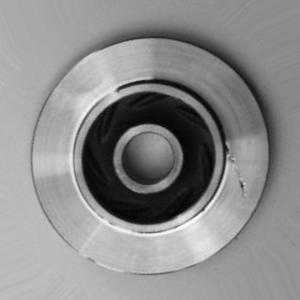defect: (208, 117, 259, 220)
